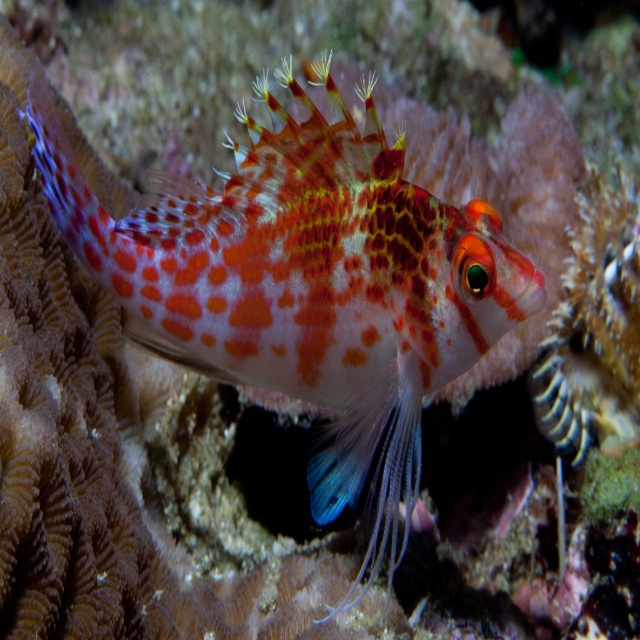Fish: (12, 68, 572, 615)
